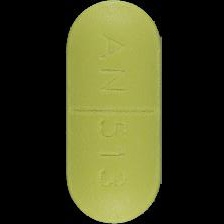65162-513: (0, 0, 224, 224)
